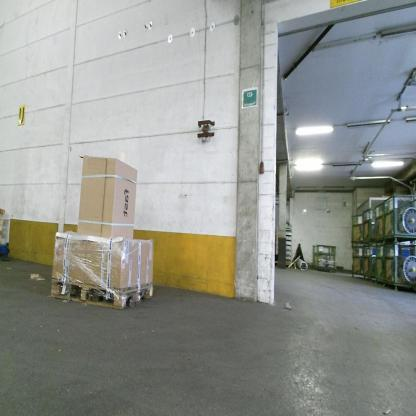pallets: (49, 273, 153, 311), (348, 269, 415, 296)
